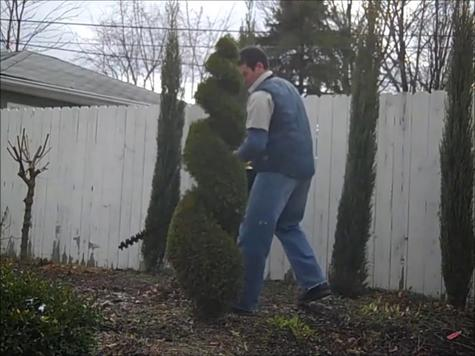down: (230, 92, 322, 243)
walk: (195, 31, 246, 152)
